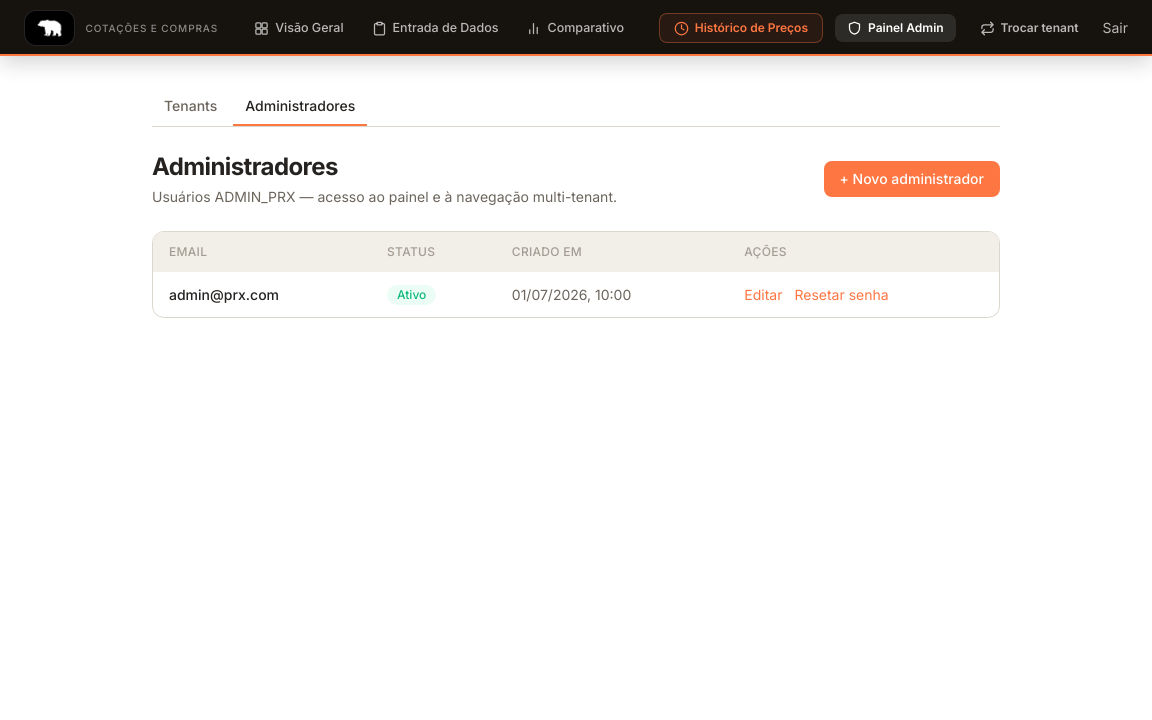
it: AdministradoresPage — ação Editar › clicar em 'Editar' na linha abre o modal de edição
This screenshot has width=1152, height=720.
Expected: the text "admin@prx.com" is shown, [153,272,371,317]
Click the button "Editar" at [763, 294], box [744,284,782,304]
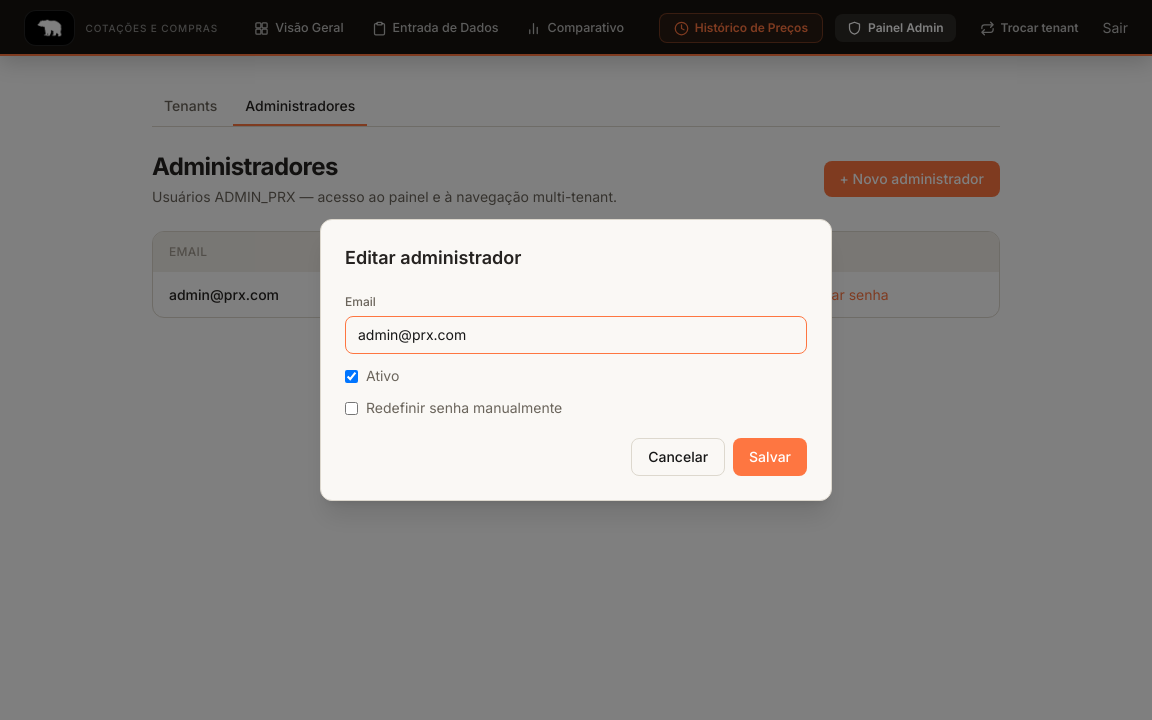
Expected: the heading "Editar administrador" is shown, [345,247,521,268]
